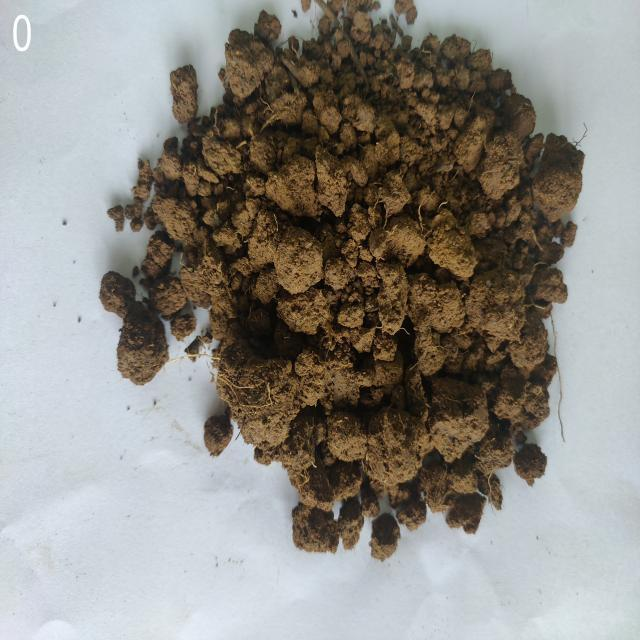soil: (247, 79, 508, 464)
